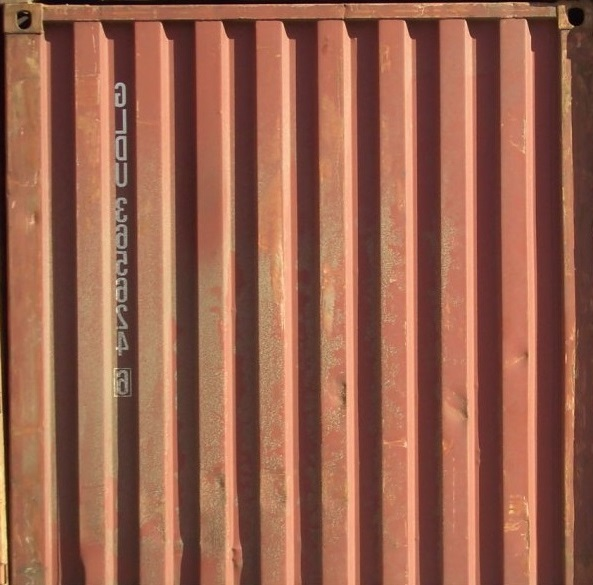container_no_door: (8, 3, 565, 585)
